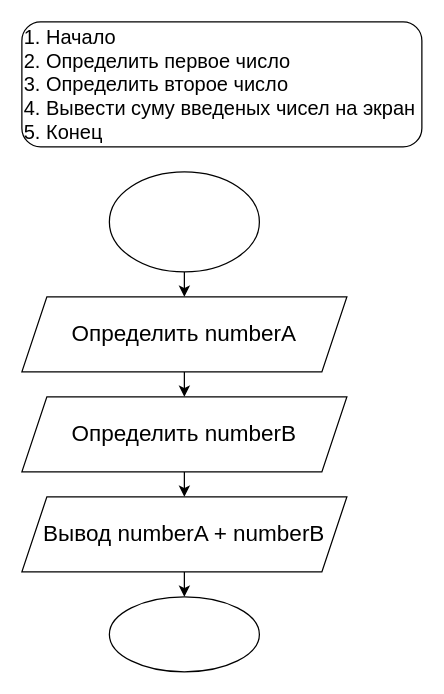
Image size: 444x694. Some labels were removed from this diagram. The box of each missing label's shape, as (x1, y1, x2, y2) in pixels:
Конец: (108, 596, 259, 672)
Начало: (108, 171, 259, 272)
